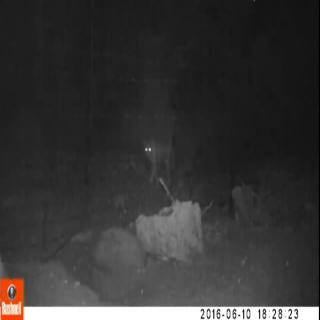Leopard: (130, 122, 182, 177)
